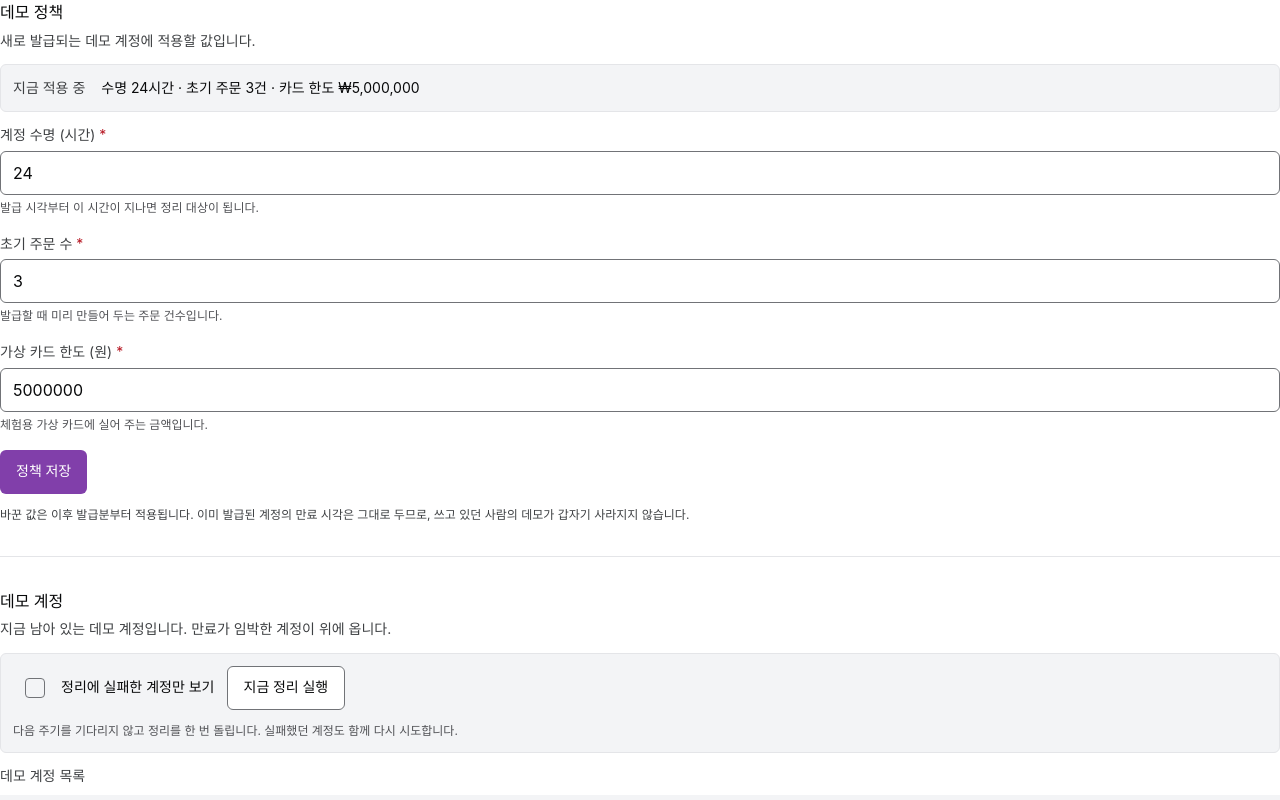
Test: 정리 실패와 재시도 (F4 · F5) › says nothing was there rather than drawing two zeroes
Click the button "지금 정리 실행" at (286, 688), box [226, 666, 345, 710]
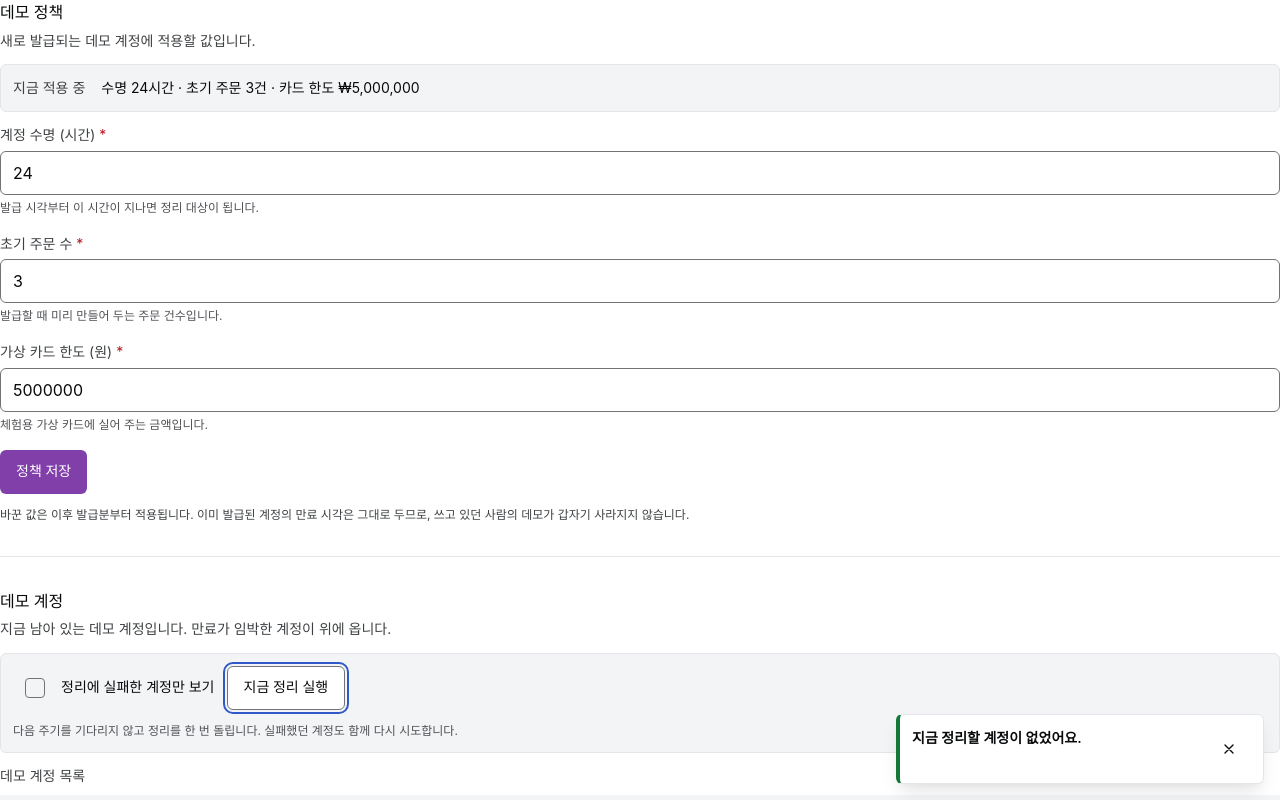
Now the text "지금 정리할 계정이 없었어요." is shown, box [912, 729, 1082, 746]
